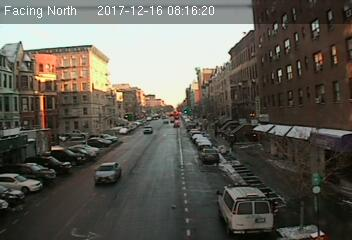car: (93, 162, 123, 183), (200, 149, 219, 161)
police: (216, 182, 275, 236)
